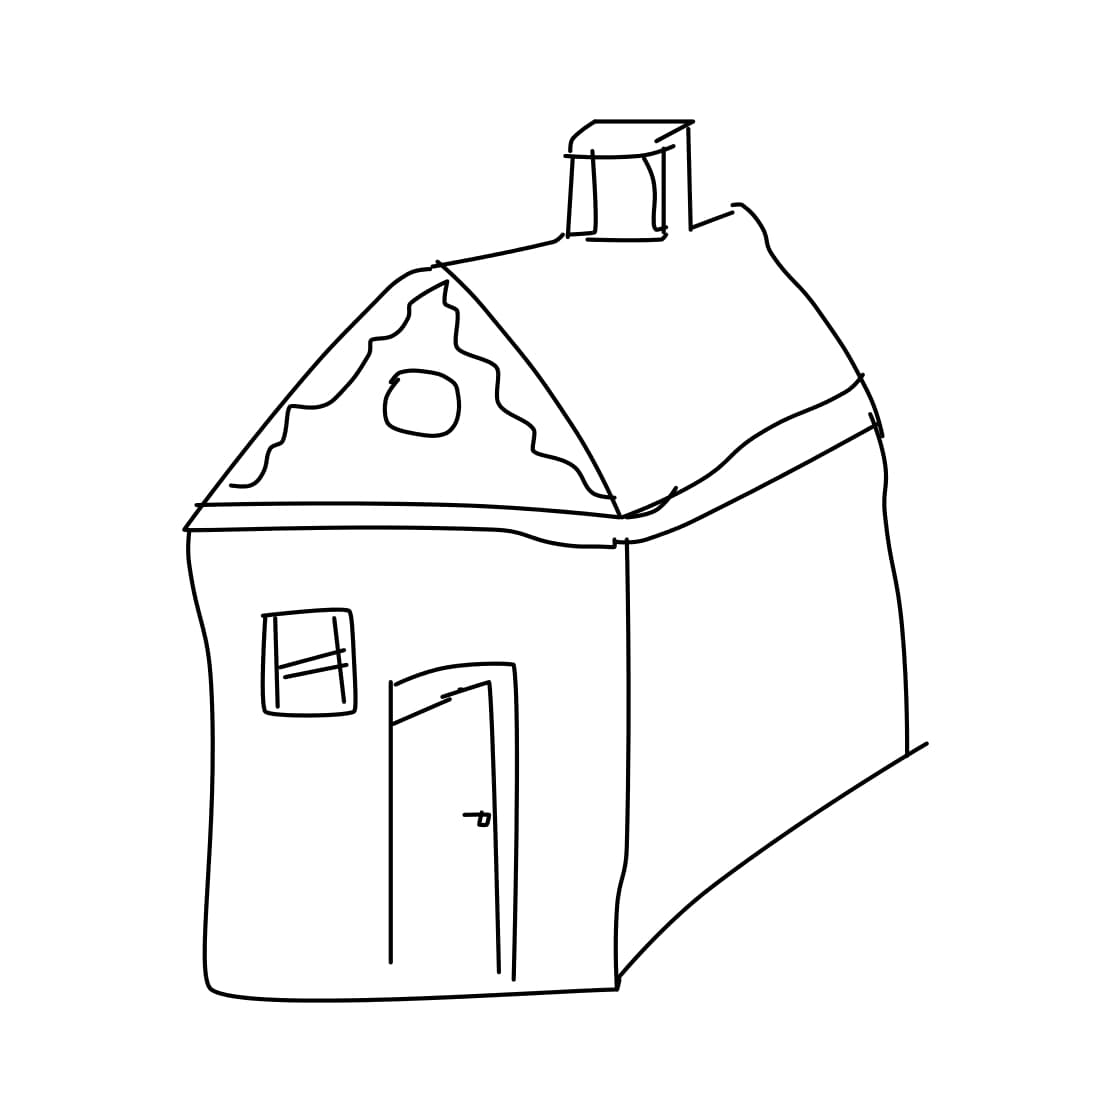House: (123, 109, 945, 1011)
